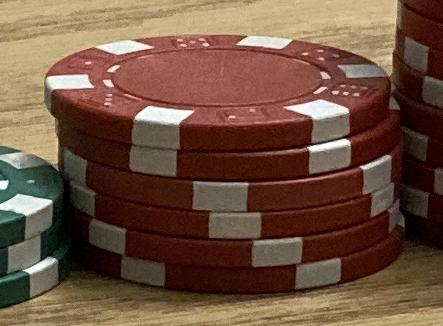Chip: (1, 1, 443, 326)
